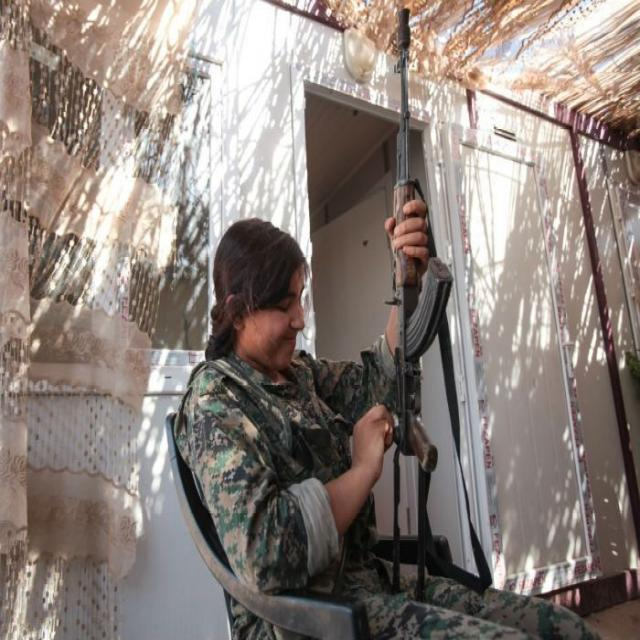ak: (368, 33, 449, 602)
